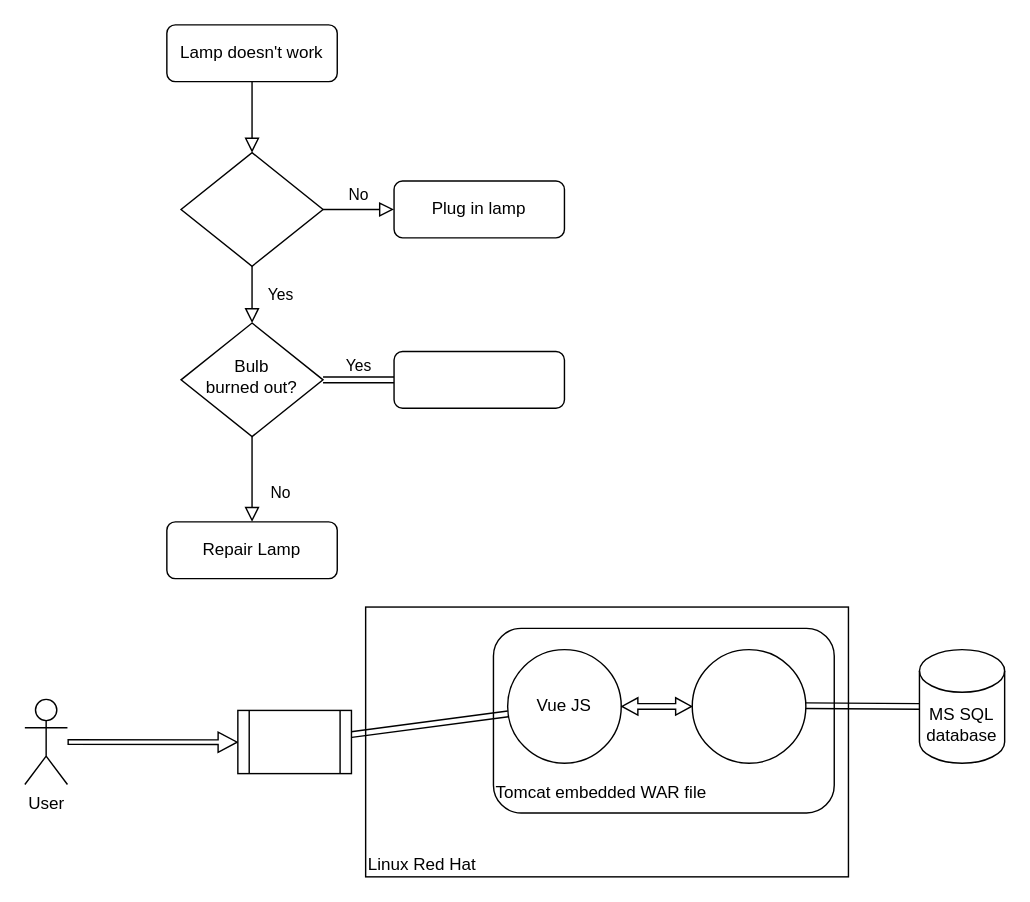
This 1030x902 diagram has some shape labels left out. The centre of each missing label's shape, as x and y in pixels:
"Browser" belongs at (x=293, y=741).
"Lamp plugged in?" belongs at (x=251, y=208).
"Replace Bulb" belongs at (x=478, y=379).
"Spring Boot" belongs at (x=748, y=705).
